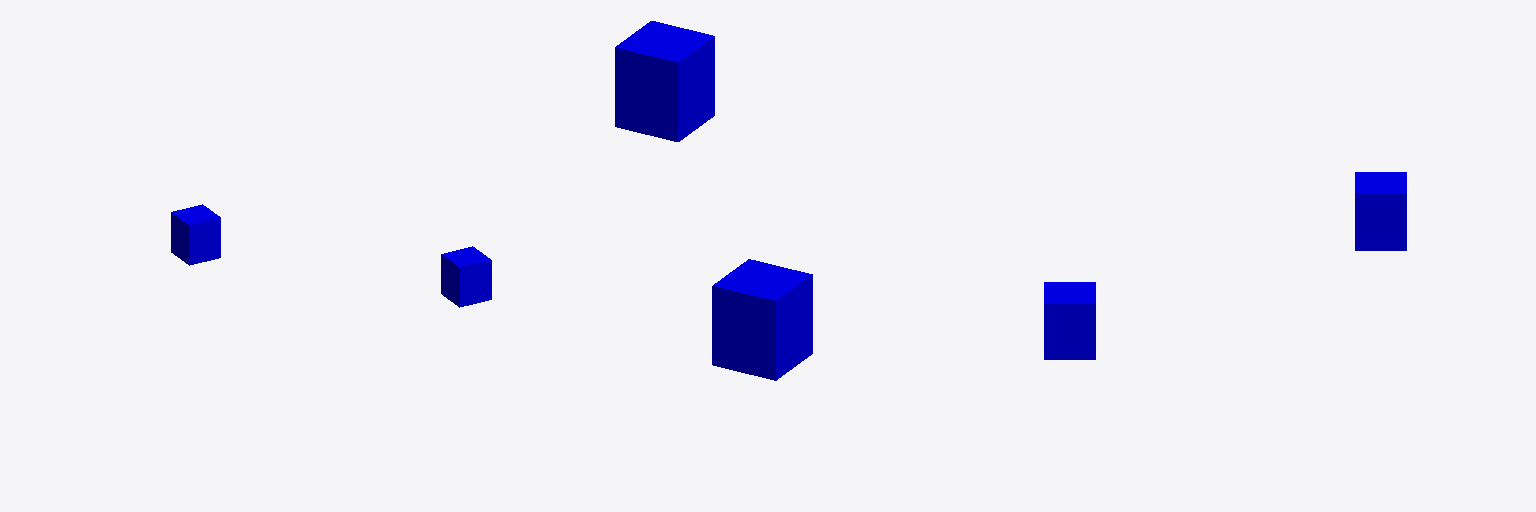
URDF robot description (environment):
<?xml version="1.0"?>
<robot name="environment">

<material name="blue">
  <color rgba="0 0 1 1"/>
</material>

<!-- base -->
  <link name="base_link">
  <visual>
   <geometry>
    <cylinder length="0.0" radius="0.0"/>
   </geometry>
   <origin rpy = "0 0 0" xyz = "0 0 0"/>
  </visual>
  </link>
  
  <!-- body -->
  <link name = "env">
    <visual>
      <geometry>
        <mesh filename="package://wpr_warehousing_monitor/meshes/environment/environment.dae" scale="3.9 3.9 3.9"/>
      </geometry>
      <origin rpy = "0 0 0" xyz = "0 0 0"/>
    </visual>
  </link>
  <joint name = "base_to_env" type = "fixed">
    <parent link = "base_link"/>
    <child link = "env"/>
    <!-- <origin rpy="0 0 0" xyz="-9.2 -3.6 -0.3"/>  -->
    <origin rpy="0 0 0.0" xyz="-6.2 -10.4 -0.4"/> 
  </joint>

  <!-- table_4 -->
  <link name = "table_4">
    <visual>
      <geometry>
        <box size="0.5 0.5 0.6"/>
      </geometry>
      <material name="blue"/>
      <origin rpy = "0 0 0" xyz = "0 0 0"/>
    </visual>
  </link>
  <joint name = "base_to_table_4" type = "fixed">
    <parent link = "base_link"/>
    <child link = "table_4"/>
    <origin rpy="0 0 0.0" xyz="2.0 -1.3 0.3"/> 
  </joint>

   <!-- table_5-->
  <link name = "table_5">
    <visual>
      <geometry>
        <box size="0.5 0.5 0.6"/>
      </geometry>
      <material name="blue"/>
      <origin rpy = "0 0 0" xyz = "0 0 0"/>
    </visual>
  </link>
  <joint name = "base_to_table_5" type = "fixed">
    <parent link = "base_link"/>
    <child link = "table_5"/>
    <origin rpy="0 0 0.0" xyz="4.5 -4.3 0.3"/> 
  </joint>

</robot>

--- What the picture shows (computed from the rendered views, not written in the file) ---
3 views of the same robot in one strip: view 1: azimuth 30°, elevation 25°; view 2: azimuth 150°, elevation 25°; view 3: azimuth 270°, elevation 25° (orthographic).
Model environment with 4 links and 3 joints (3 fixed), rooted at base_link, posed all joints at 0.
Visible links, largest first — view 1: table_5, table_4; view 2: table_4, table_5; view 3: table_4, table_5.
Link boxes in pixels (x1,y1,x2,y2): table_5: (441,246,491,307); table_4: (171,204,220,265); table_4: (712,259,812,380); table_5: (615,21,714,141); table_4: (1355,172,1406,250); table_5: (1044,282,1095,359).
Size in the robot's own frame: 4.75 by 4.55 by 0.6 metres.
0 mesh visuals loaded from 1 distinct referenced files (none loaded); not drawn: 1 (reference not matched to a file when rendering).
